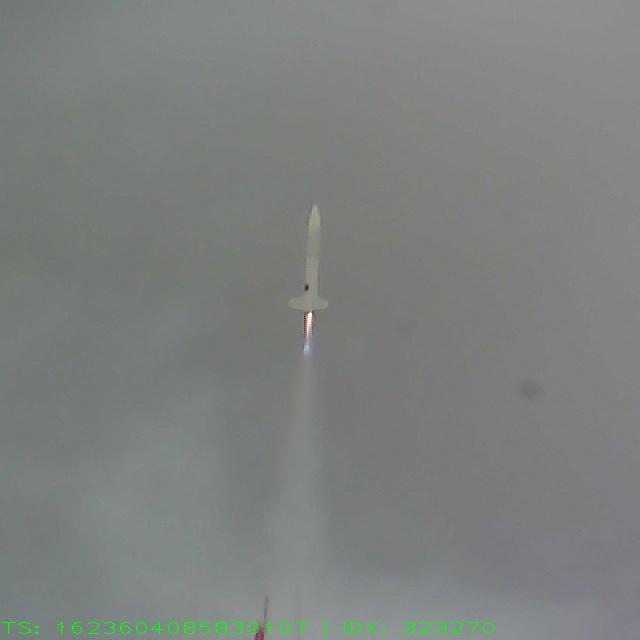Rocket: (288, 202, 332, 312)
